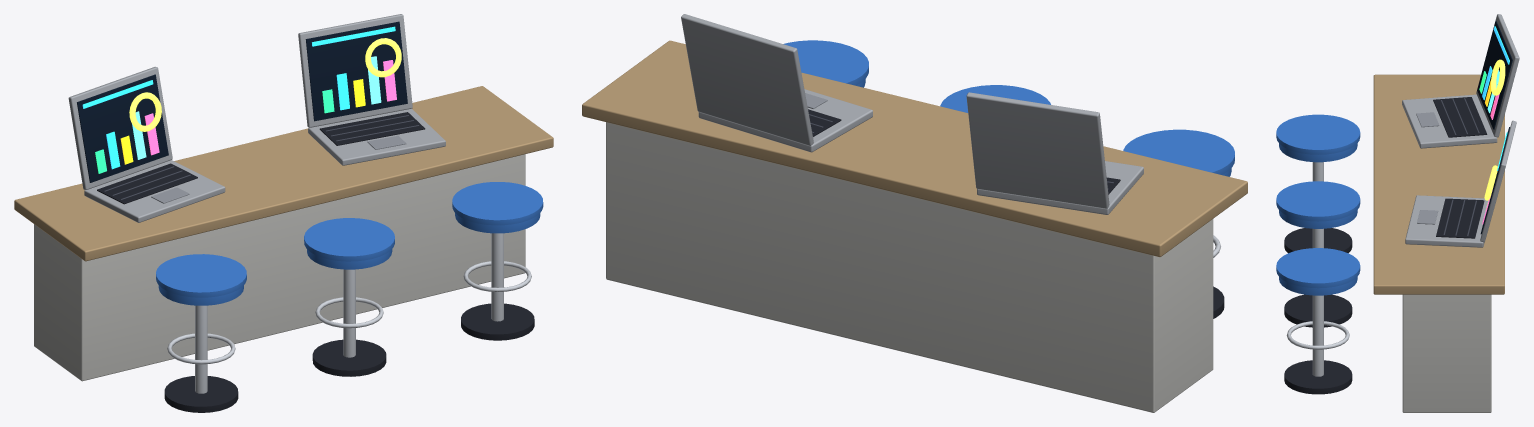
Rendered from support-bar.glb.
3 renders of one model, left to right at view 1: azimuth 30°, elevation 25°; view 2: azimuth 150°, elevation 25°; view 3: azimuth 270°, elevation 25°, orthographic. The views are drawn at different scales.
Visible parts, largest first — view 1: support-bar-solid, support-bar-metal, support-bar-glow (×5), anim-3-rotor-solid, anim-1-rotor-solid, anim-2-rotor-solid; view 2: support-bar-solid, anim-1-rotor-solid, anim-3-rotor-solid, anim-2-rotor-solid; view 3: support-bar-solid, anim-1-rotor-solid, anim-2-rotor-solid, anim-3-rotor-solid, support-bar-metal, support-bar-glow (×2).
Part boxes in pixels (bbox=[...]): support-bar-solid: bbox=[14, 14, 553, 412]; support-bar-metal: bbox=[167, 233, 531, 393]; support-bar-glow (×5): bbox=[82, 26, 401, 169]; anim-3-rotor-solid: bbox=[452, 182, 543, 233]; anim-1-rotor-solid: bbox=[156, 254, 246, 305]; anim-2-rotor-solid: bbox=[304, 218, 394, 269]; support-bar-solid: bbox=[582, 14, 1247, 412]; anim-1-rotor-solid: bbox=[1123, 129, 1234, 176]; anim-3-rotor-solid: bbox=[783, 40, 868, 87]; anim-2-rotor-solid: bbox=[940, 85, 1050, 112]; support-bar-solid: bbox=[1284, 14, 1519, 412]; anim-1-rotor-solid: bbox=[1276, 114, 1360, 162]; anim-2-rotor-solid: bbox=[1276, 181, 1360, 228]; anim-3-rotor-solid: bbox=[1276, 248, 1360, 295]; support-bar-metal: bbox=[1286, 162, 1349, 376]; support-bar-glow (×2): bbox=[1482, 26, 1509, 201].
Size of the model in its own units: 1.52 by 0.7321 by 0.7404.
